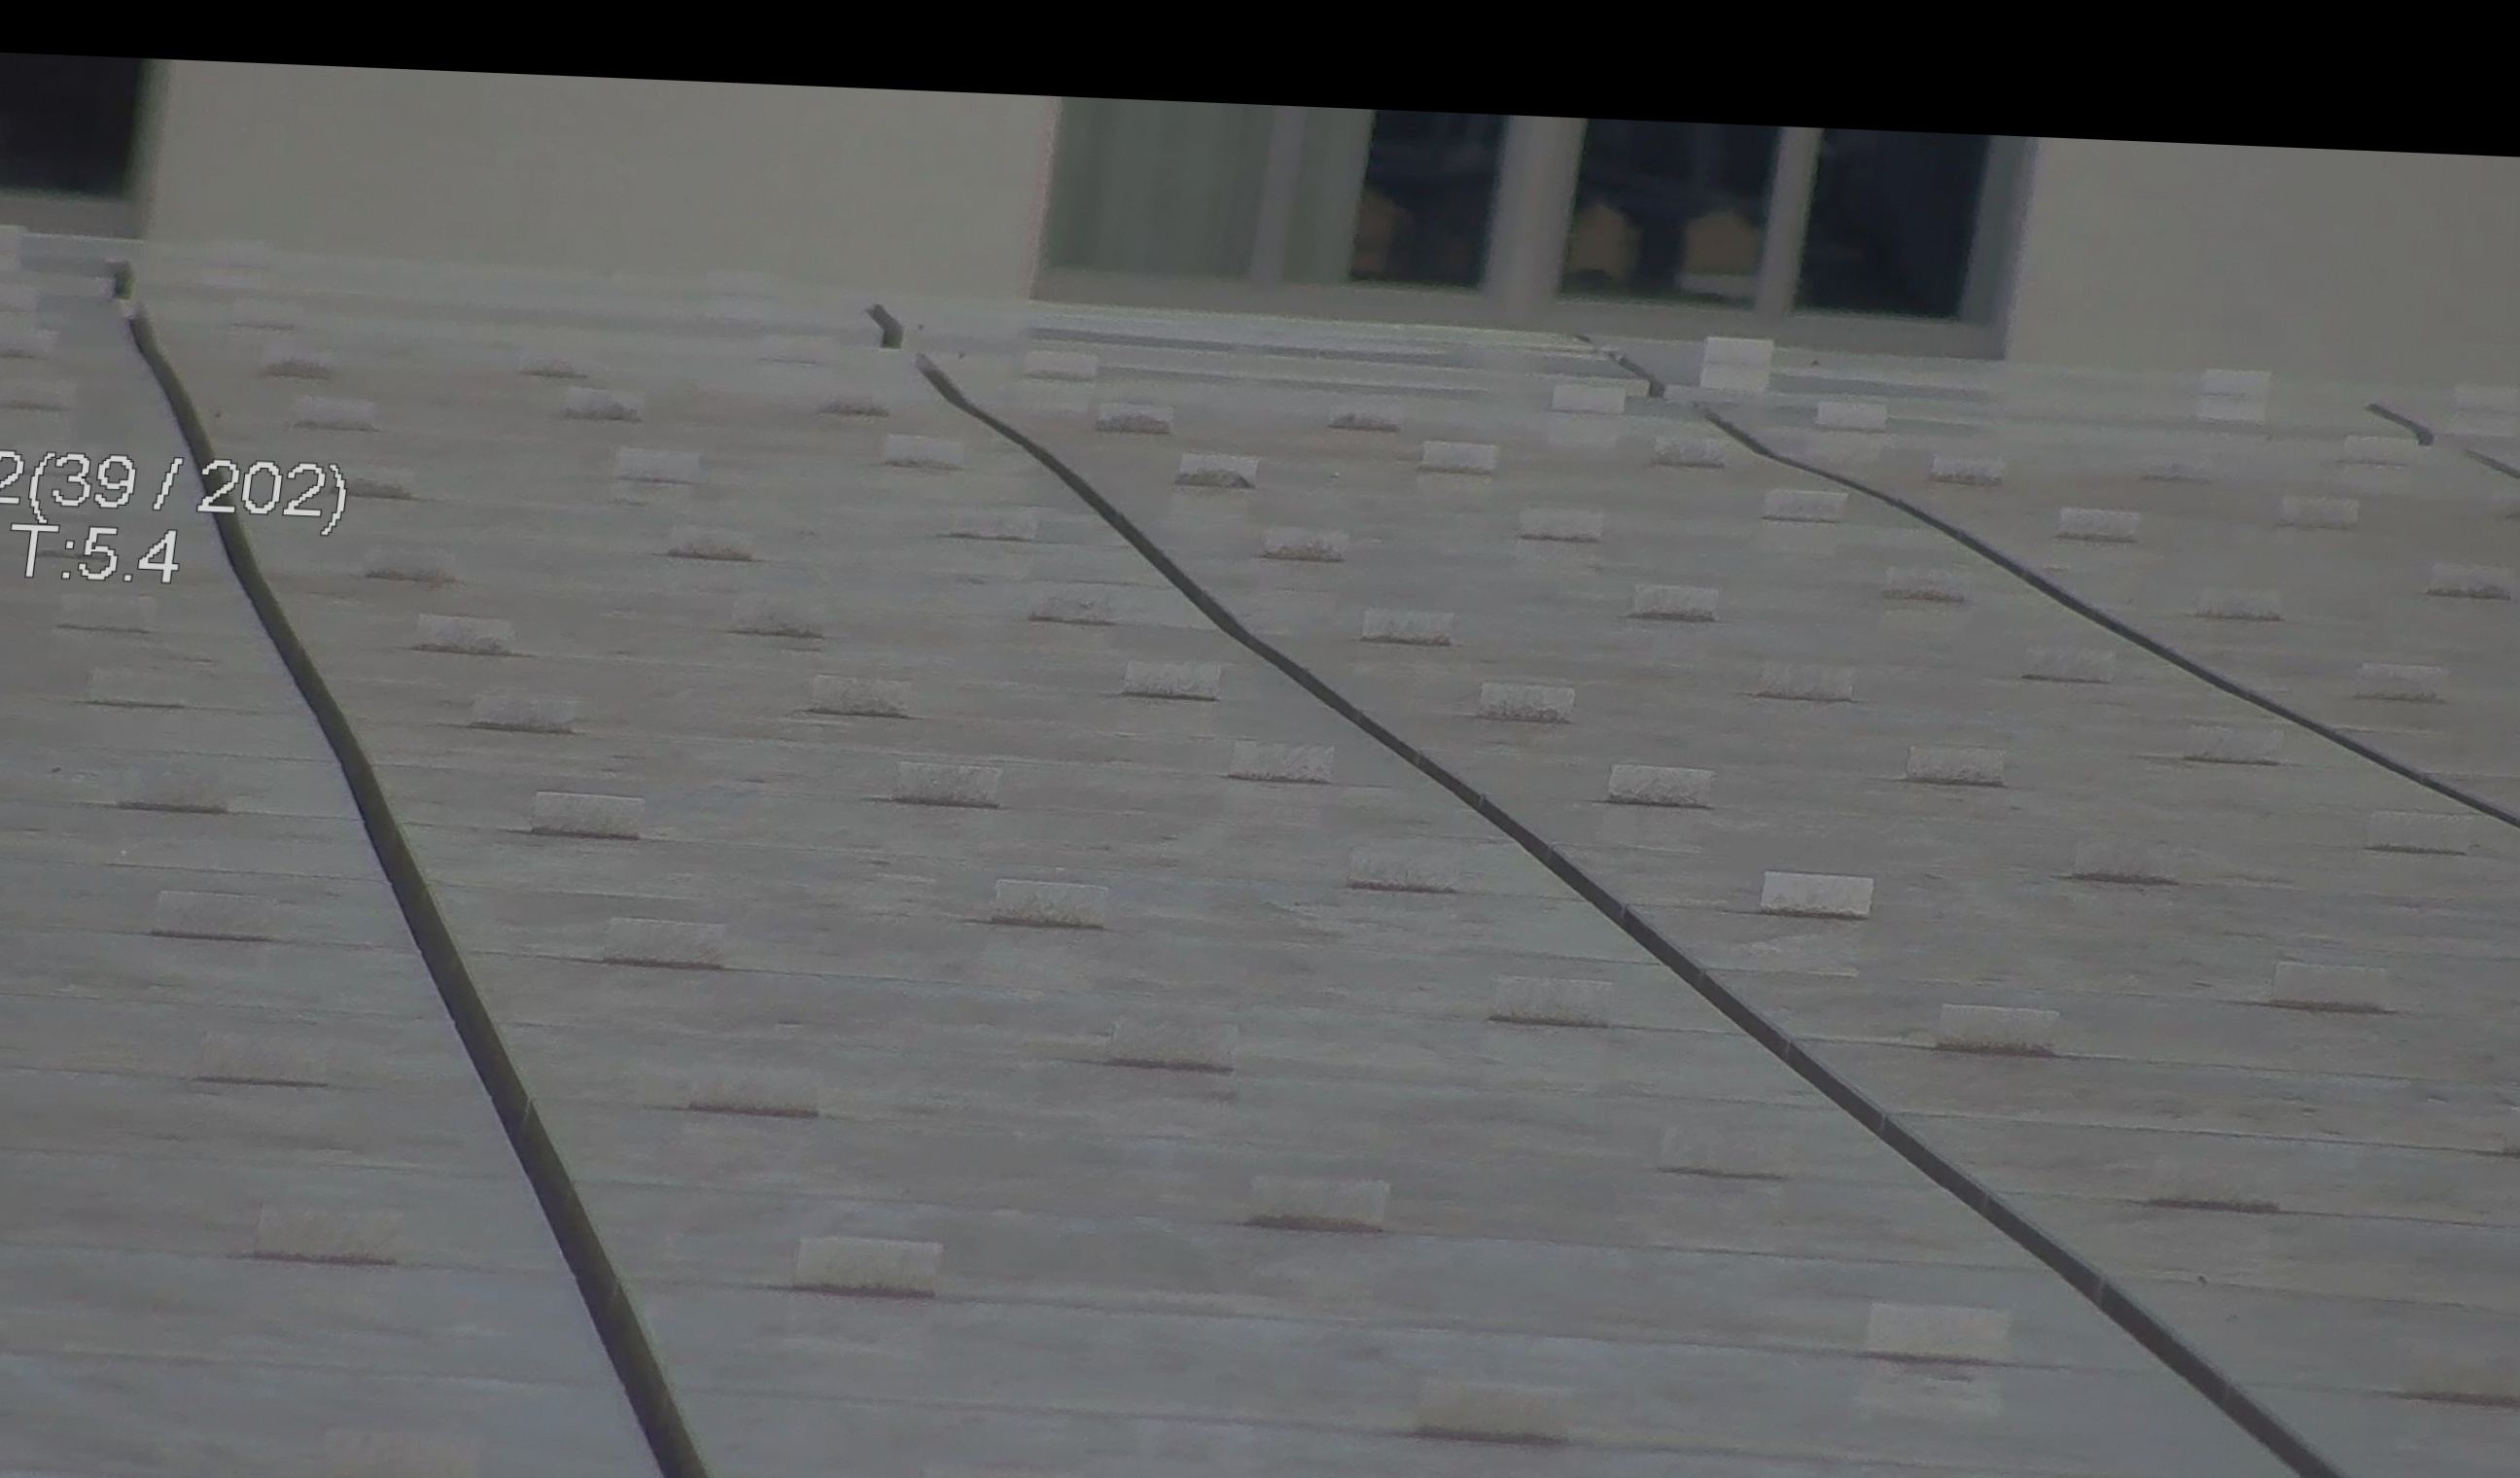Other: (40, 257, 230, 501)
